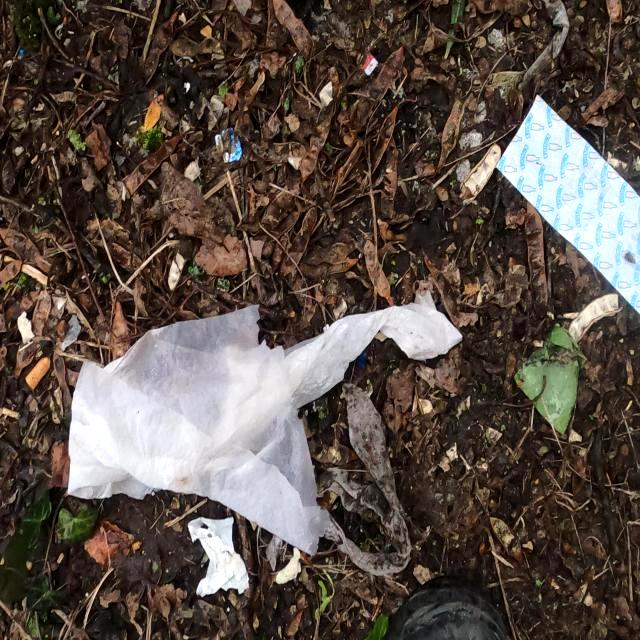Paper: (66, 286, 464, 558), (186, 516, 250, 598)
Plastic: (492, 92, 640, 318)
